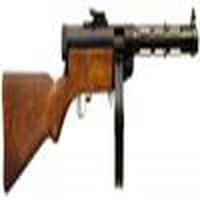gun: (1, 11, 200, 187)
